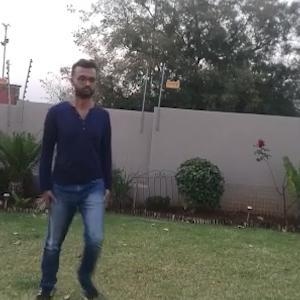follow: (43, 62, 116, 292)
